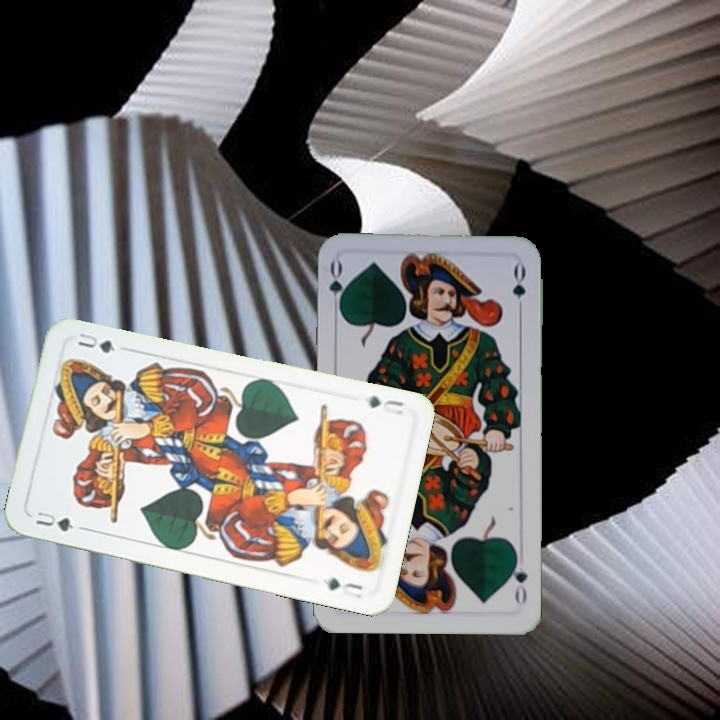GO: (325, 258, 350, 317), (506, 549, 530, 608)
GU: (32, 507, 78, 534), (364, 392, 407, 418)
